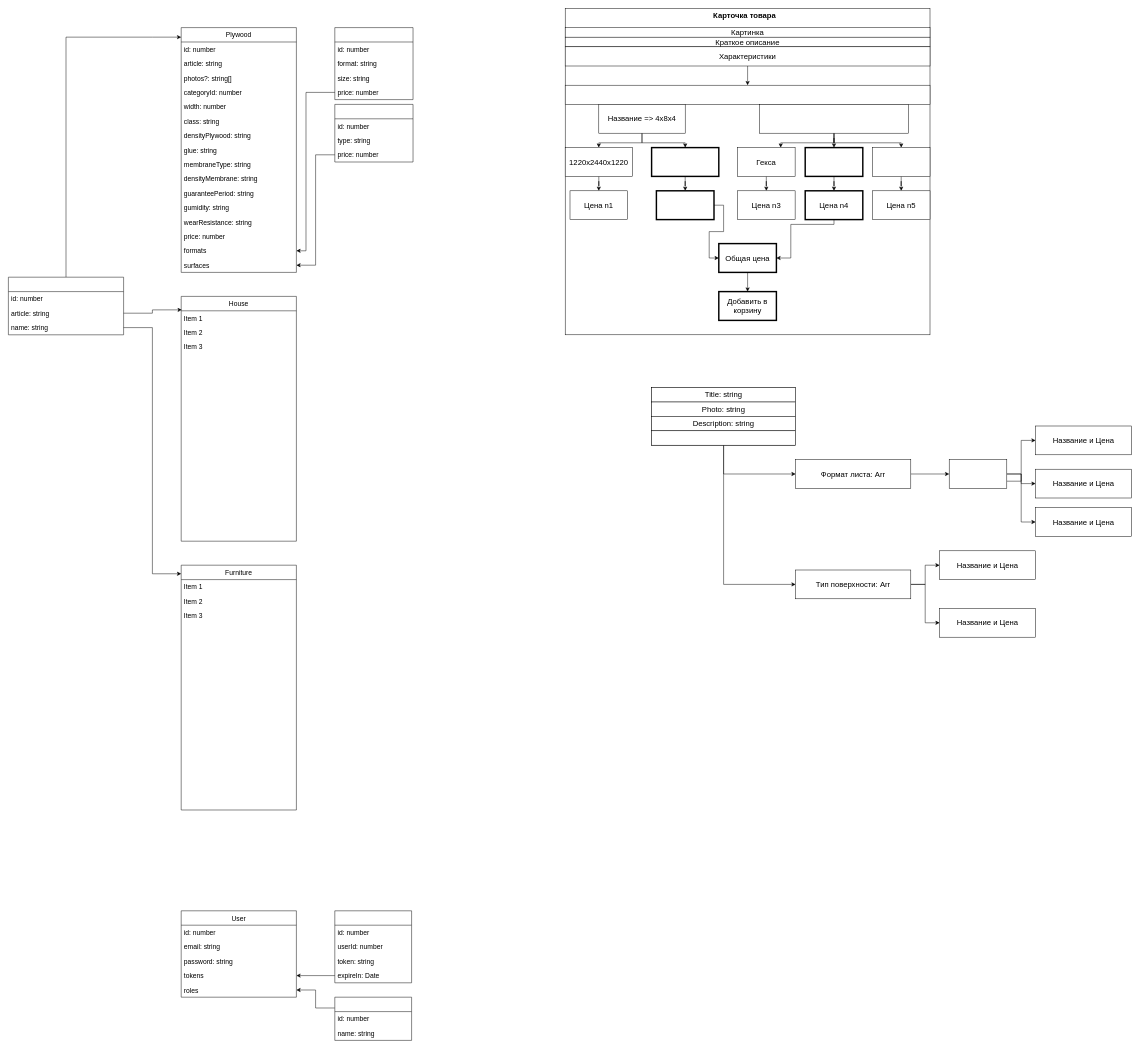
The diagram is 1140 pixels wide and 1049 high, and some of its shapes have lost their labels. The shapes that lost their labels are listed below. From the top down, each one's box as (x1, y1, x2, y2) in pixels, then its label:
(334, 27, 413, 100): Plywood-formats
(565, 85, 930, 104): У характеристики есть Title например => Формат листа
(334, 104, 413, 162): Plywood-surfaces
(759, 104, 908, 133): Название => Тип поверхности
(651, 147, 719, 177): 1250x2500x1250
(804, 147, 863, 177): Гладкая сетка
(872, 147, 930, 176): Гладкая
(655, 190, 714, 220): Цена n2
(8, 277, 124, 335): Category
(651, 430, 796, 445): Types: arr
(949, 459, 1007, 488): Размеры: arr
(334, 910, 412, 983): User-token
(334, 997, 412, 1040): Role
